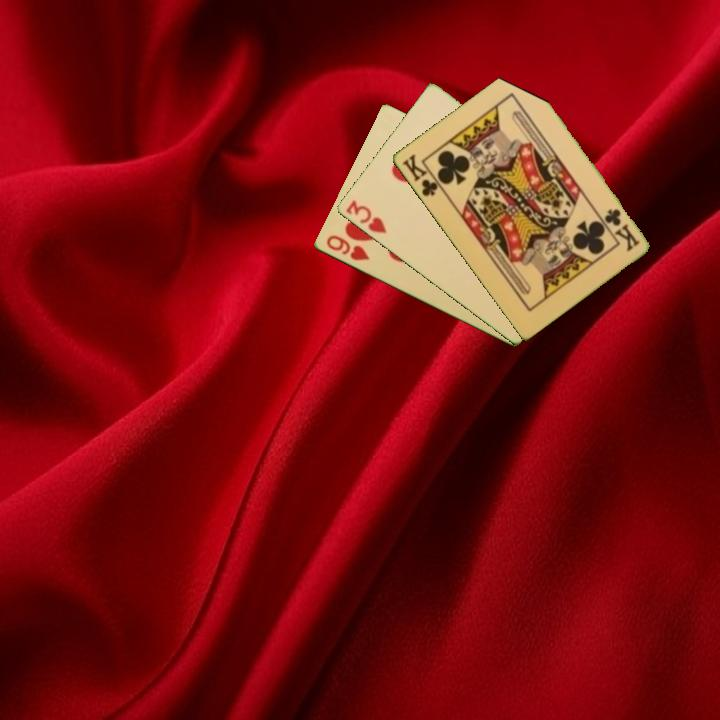3h: (342, 197, 389, 237)
9h: (322, 232, 372, 264)
Kc: (398, 150, 446, 199), (601, 205, 642, 254)
